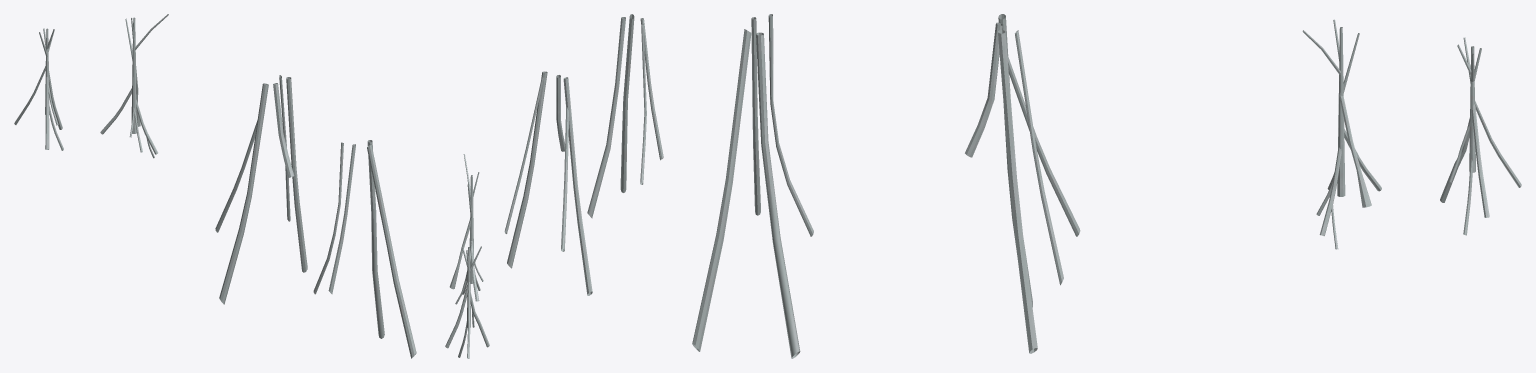
The model's file is field_winter_ice_pillar.fbx.
3 renders of one model, left to right at view 1: azimuth 30°, elevation 25°; view 2: azimuth 150°, elevation 25°; view 3: azimuth 270°, elevation 25°, orthographic. The views are drawn at different scales.
Parts seen in each view (by area): view 1: field_winter_ice_pillar1; view 2: field_winter_ice_pillar1; view 3: field_winter_ice_pillar1.
Boxes of the visible parts, bbox=[...] form: field_winter_ice_pillar1: bbox=[14, 14, 416, 358]; field_winter_ice_pillar1: bbox=[445, 14, 663, 358]; field_winter_ice_pillar1: bbox=[692, 14, 1521, 358].
Bounding box in the file's own units: 861 × 1429 × 3354.
Materials: 1 (1 with a texture image).
